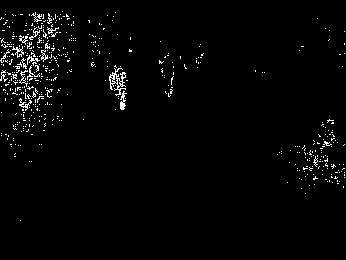person: (107, 63, 132, 112)
